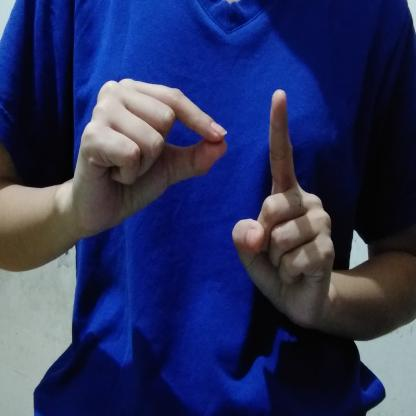son: (72, 68, 341, 338)
